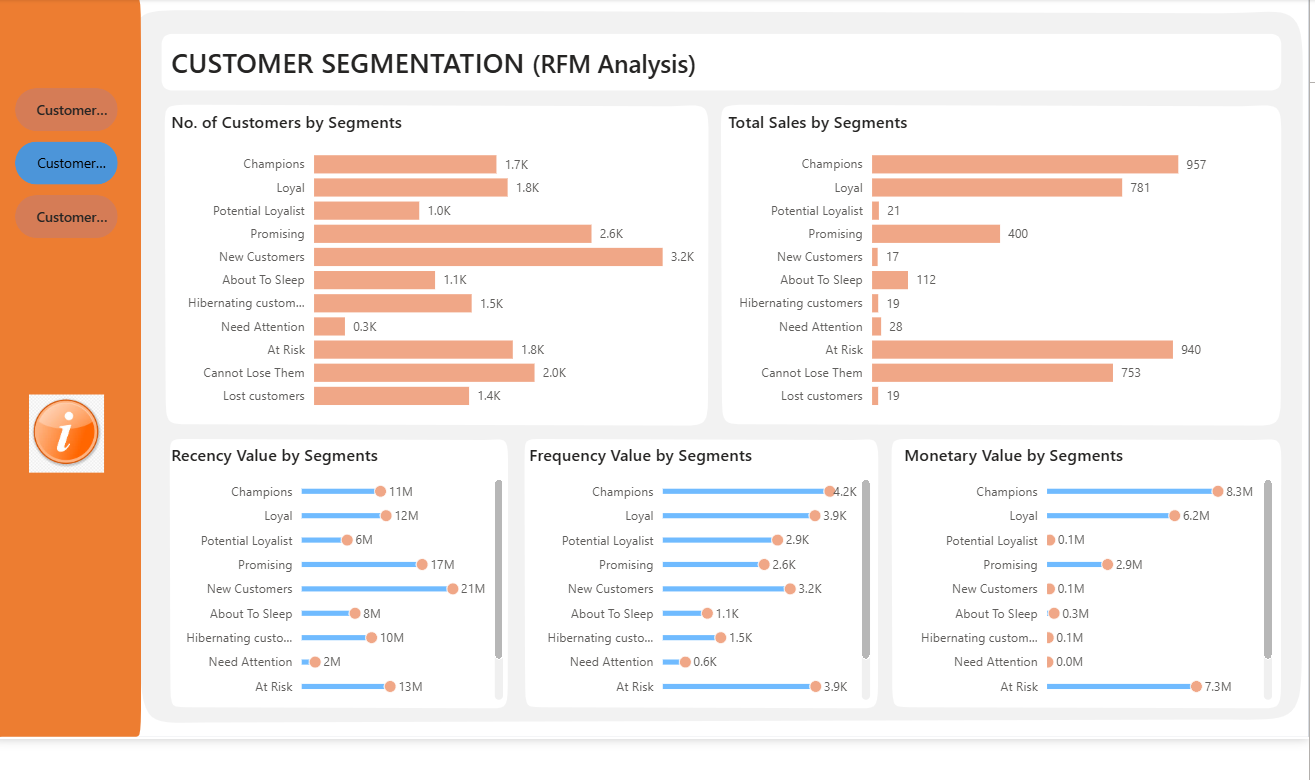

What the dashboard file says about the page in this screenshot:
{"tool":"powerbi","page":{"name":"Customer Segmentation","canvas":[1280,720],"ordinal":1},"visuals":[{"type":"textbox","box":[168.6,37.8,548.8,46.5],"z":0},{"type":"clusteredBarChart","title":"No. of Customers by Segments","fields":{"Y":["Count(FactInternetSales.CustomerKey)"],"Category":["Segment Table.Segment"]},"box":[168.6,108.9,524.2,300.3],"z":1000},{"type":"clusteredBarChart","title":"Total Sales by Segments","fields":{"Category":["Segment Table.Segment"],"Y":["Avg(FactInternetSales.SalesAmount)"]},"box":[710.3,108.9,539.1,300.3],"z":2000},{"type":"clusteredBarChart","title":"Recency Value by Segments","fields":{"Category":["Segment Table.Segment"],"Y":["Sum(RFM Table.Recency Value)"]},"box":[168.6,432.9,332.8,253.8],"z":3000},{"type":"clusteredBarChart","title":"Frequency Value by Segments","fields":{"Category":["Segment Table.Segment"],"Y":["Sum(RFM Table.Frequency Value)"]},"box":[516.3,432.9,341.6,253.8],"z":4000},{"type":"clusteredBarChart","title":"Monetary Value by Segments","fields":{"Category":["Segment Table.Segment"],"Y":["Sum(RFM Table.Monetary Value)"]},"box":[881.6,432.9,367.9,253.8],"z":5000},{"type":"pageNavigator","box":[21.4,86.6,100.2,148.8],"z":6000},{"type":"image","box":[35,366.7,72.9,111.9],"z":7000}]}

Visuals, with their boxes on the page's 1280x720 design canvas (x1, y1, x2, y2). These are canvas units, not pixel positions in the 1315x780 screenshot, which may show the page scaled, cropped or inside an application window:
textbox: <region>169, 38, 717, 84</region>
"No. of Customers by Segments" clusteredBarChart: <region>169, 109, 693, 409</region>
"Total Sales by Segments" clusteredBarChart: <region>710, 109, 1249, 409</region>
"Recency Value by Segments" clusteredBarChart: <region>169, 433, 501, 687</region>
"Frequency Value by Segments" clusteredBarChart: <region>516, 433, 858, 687</region>
"Monetary Value by Segments" clusteredBarChart: <region>882, 433, 1250, 687</region>
pageNavigator: <region>21, 87, 122, 235</region>
image: <region>35, 367, 108, 479</region>
